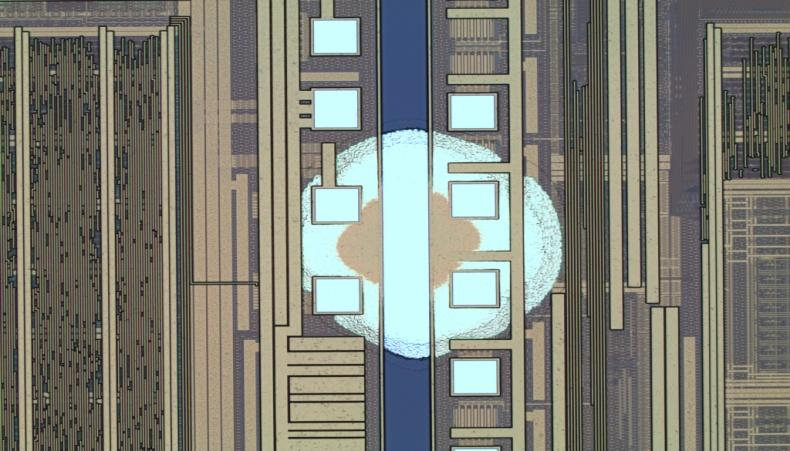BLOCK ETCH: (280, 120, 574, 372)
